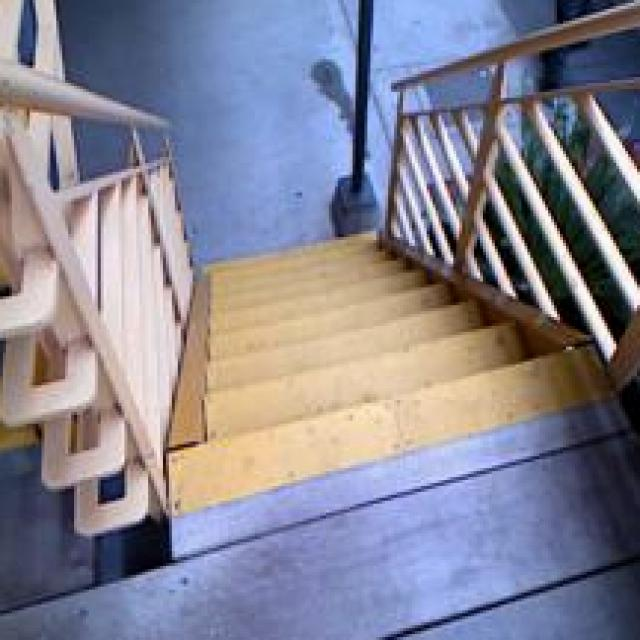downstair: (158, 348, 626, 546)
